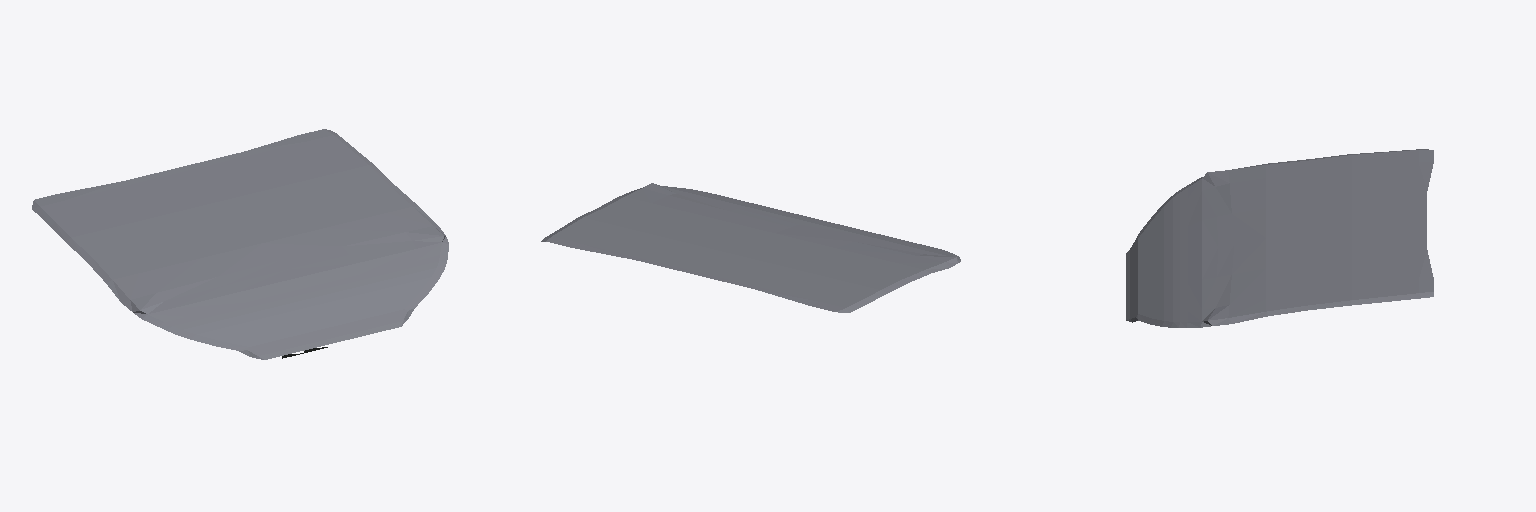
The model's file is cofre.obj.
3 views of the same model, side by side, from view 1: azimuth 30°, elevation 25°; view 2: azimuth 150°, elevation 25°; view 3: azimuth 270°, elevation 25° (orthographic).
Visible parts, largest first — view 1: s15-body.001; view 2: s15-body.001; view 3: s15-body.001.
Boxes of the visible parts, x1=… form: s15-body.001: x1=32, y1=129, x2=448, y2=359; s15-body.001: x1=541, y1=183, x2=960, y2=312; s15-body.001: x1=1126, y1=149, x2=1433, y2=327.
Size of the model in its own units: 0.9884 by 0.2105 by 0.8308.